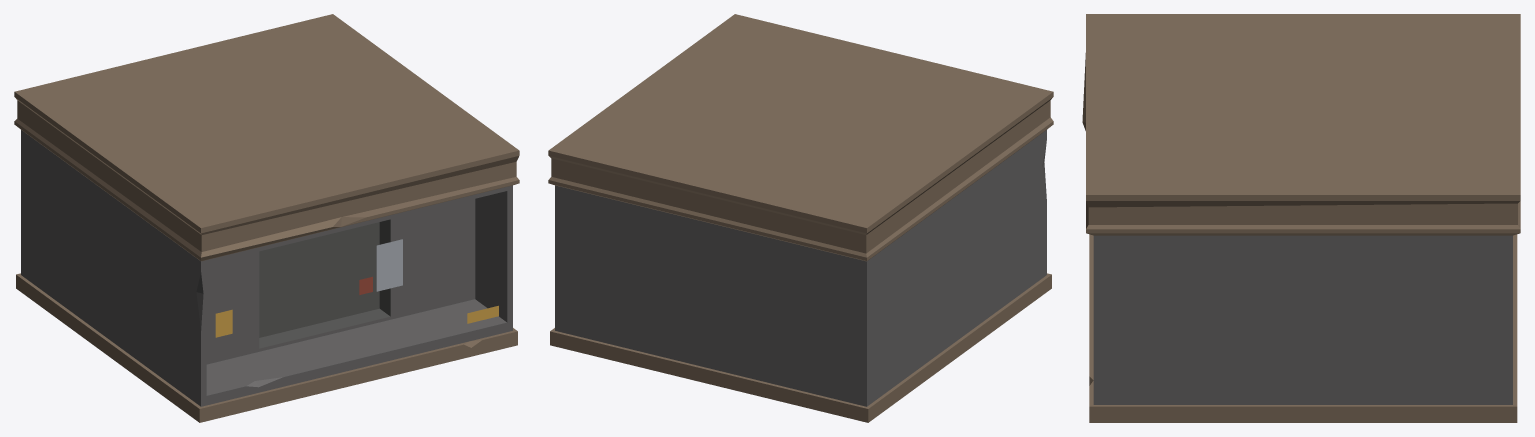
File: shop_05.glb
The picture shows the model from 3 angles, left to right: view 1: azimuth 30°, elevation 25°; view 2: azimuth 150°, elevation 25°; view 3: azimuth 270°, elevation 25°; orthographic projection. The views are drawn at different scales.
Visible parts, largest first — view 1: SM_Bld_Shop_05; view 2: SM_Bld_Shop_05; view 3: SM_Bld_Shop_05.
Part boxes in pixels (x1,y1,x2,y2): SM_Bld_Shop_05: (14,14,519,422); SM_Bld_Shop_05: (548,14,1053,422); SM_Bld_Shop_05: (1082,14,1520,422).
Bounding box in the file's own units: 5.11 × 3 × 5.22.
1 material, 1 textured.
